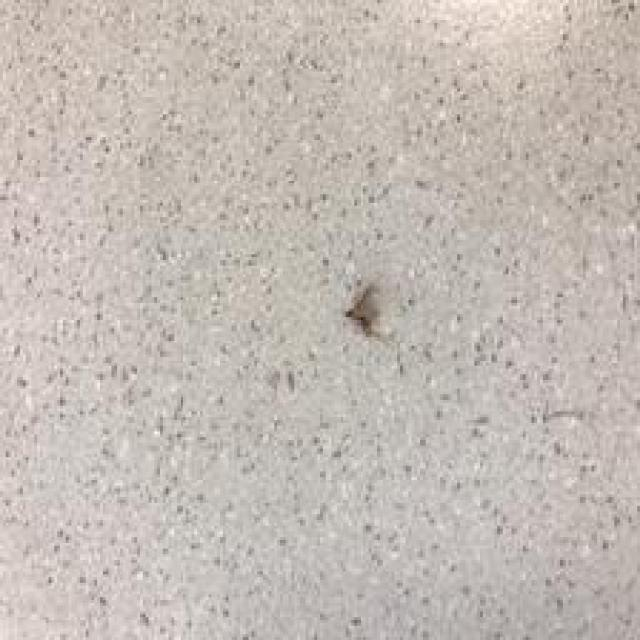Culex: (343, 283, 383, 337)
